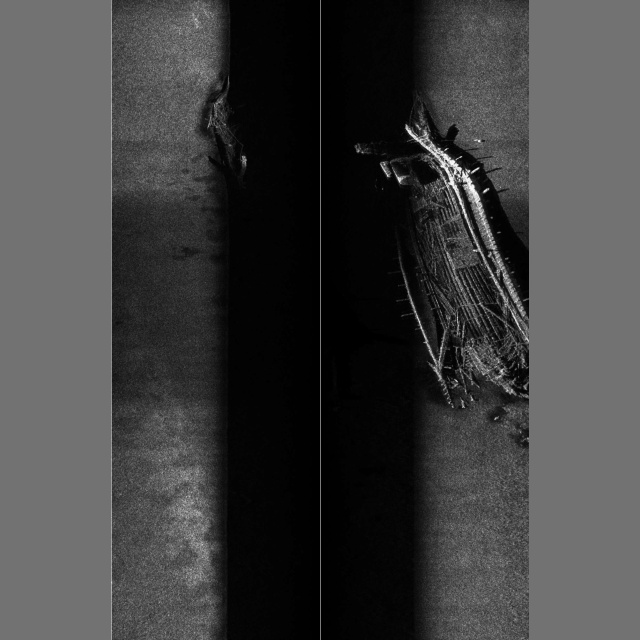Shipwreck: (204, 75, 529, 421)
